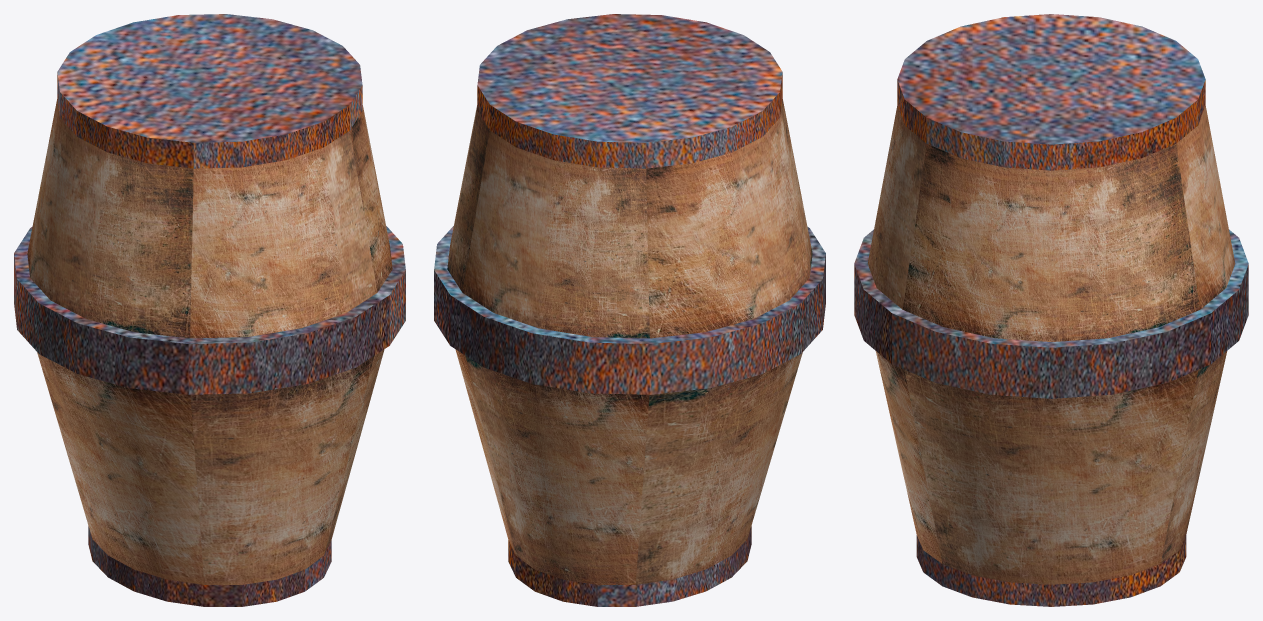
The model's file is Barril definitivo.fbx.
3 views of the same model, side by side, from view 1: azimuth 30°, elevation 25°; view 2: azimuth 150°, elevation 25°; view 3: azimuth 270°, elevation 25° (orthographic).
Visible parts, largest first — view 1: trabajo_:Barril; view 2: trabajo_:Barril; view 3: trabajo_:Barril.
Part boxes in pixels (box(x1,y1,x2,y2)): trabajo_:Barril: box(14, 14, 405, 606); trabajo_:Barril: box(434, 14, 825, 606); trabajo_:Barril: box(854, 14, 1248, 606).
Bounding box in the file's own units: 0.784 × 1.04 × 0.7778.
